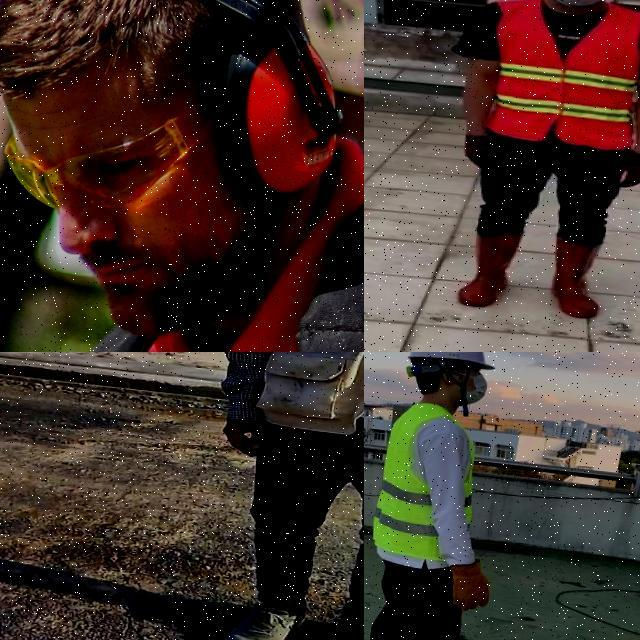boots: (456, 230, 521, 310), (550, 236, 608, 322), (206, 595, 314, 640)
helmet: (406, 352, 500, 371)
vest: (486, 0, 640, 154), (369, 399, 484, 564)
